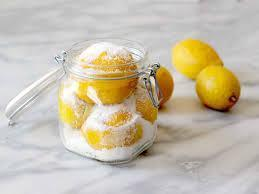lemon: (68, 42, 139, 105), (81, 109, 144, 150), (172, 38, 224, 79), (195, 65, 240, 110), (59, 74, 95, 130), (123, 87, 158, 125), (154, 62, 174, 104)
